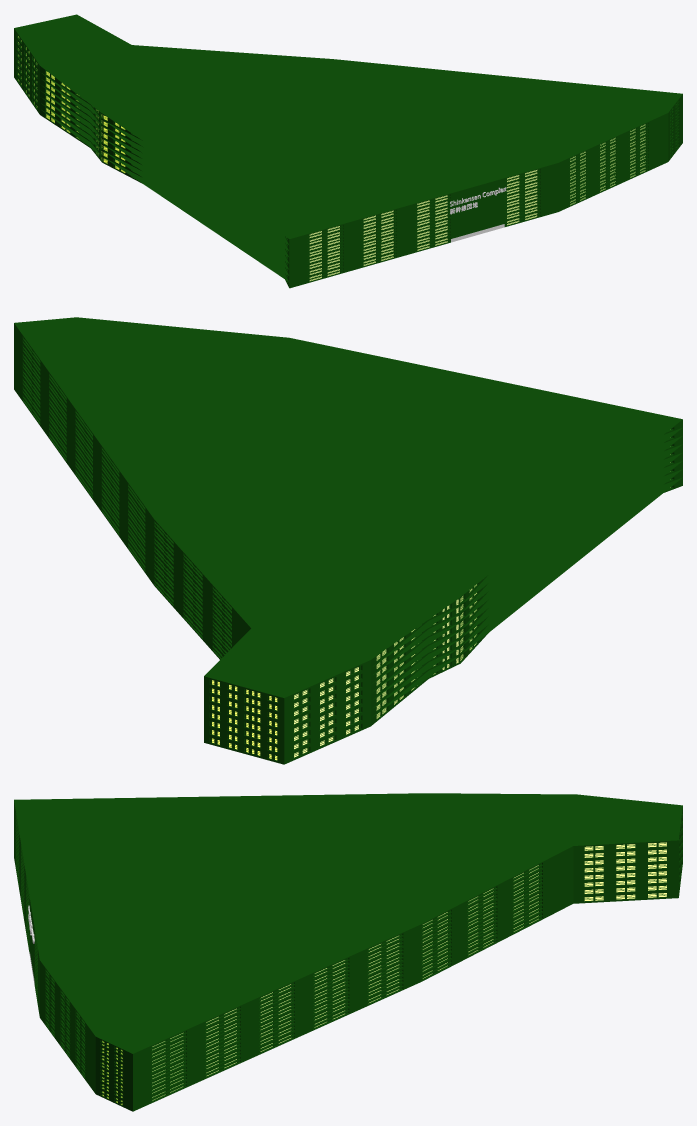
The model's file is shinkasen_complex.fbx.
3 views of the same model, one above another, from view 1: azimuth 30°, elevation 25°; view 2: azimuth 150°, elevation 25°; view 3: azimuth 270°, elevation 25° (orthographic). The views are drawn at different scales.
Visible parts, largest first — view 1: Plane; view 2: Plane; view 3: Plane.
Boxes of the visible parts, bbox=[...] form: Plane: bbox=[14, 14, 682, 288]; Plane: bbox=[14, 317, 682, 764]; Plane: bbox=[14, 793, 682, 1111].
Size of the model in its own units: 775 by 80 by 840.
